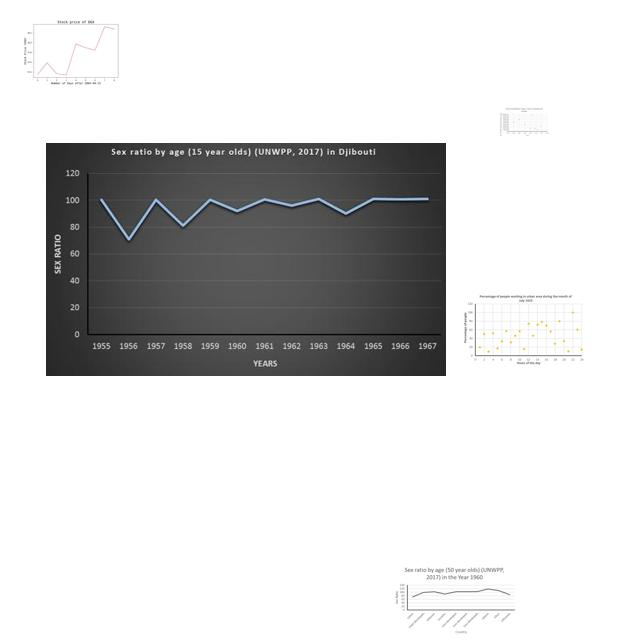Graph: (46, 143, 446, 376), (462, 293, 585, 366), (393, 566, 517, 635), (20, 13, 129, 88), (499, 107, 549, 137)
